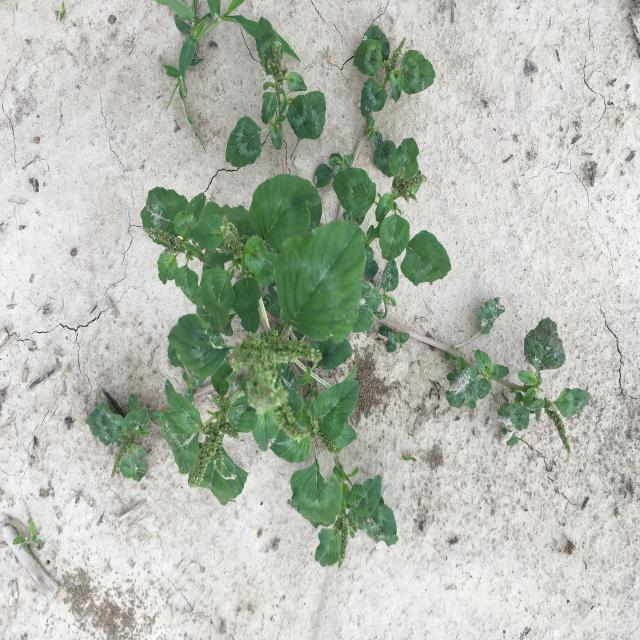PalmerAmaranth: (141, 17, 590, 569), (85, 393, 150, 483)
